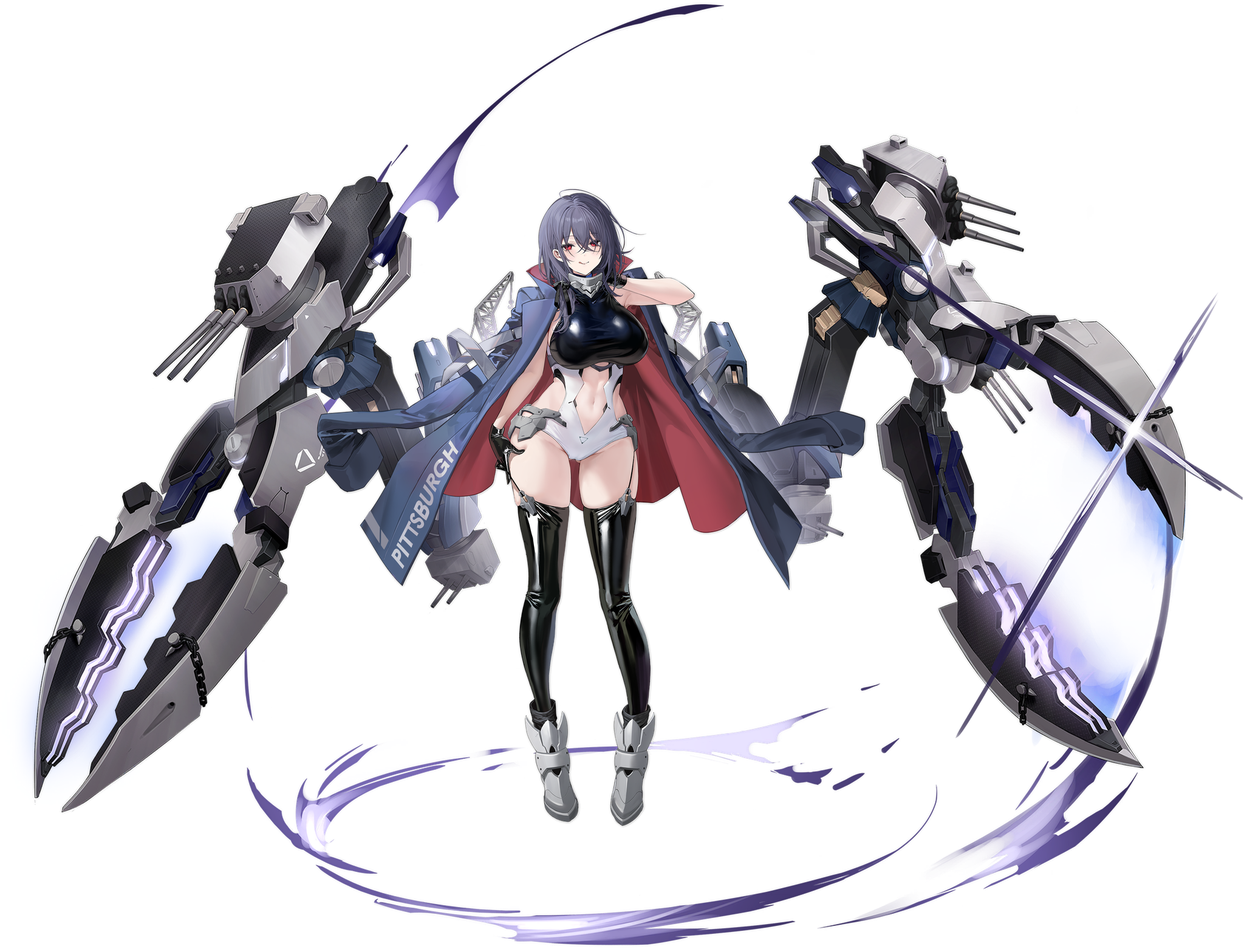person: (389, 167, 855, 854)
